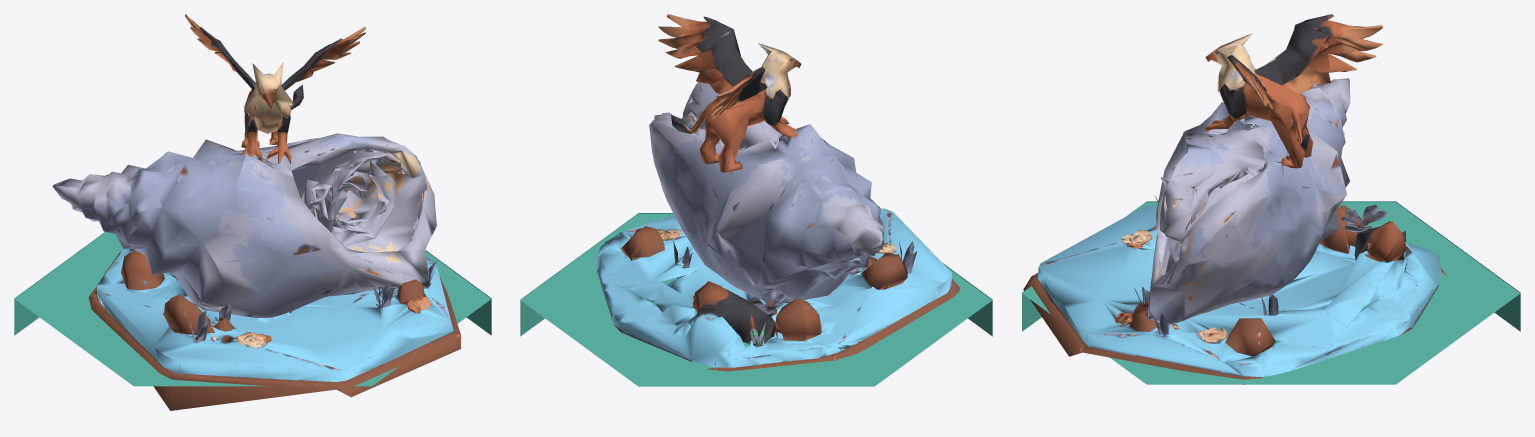
The model's file is griffon-shell.glb.
3 renders of one model, left to right at view 1: azimuth 30°, elevation 25°; view 2: azimuth 150°, elevation 25°; view 3: azimuth 270°, elevation 25°, orthographic. The views are drawn at different scales.
Parts seen in each view (by area): view 1: world, hexBase; view 2: world, hexBase; view 3: world, hexBase.
Part boxes in pixels (x1,y1,x2,y2): world: (52,14,461,410); hexBase: (14,232,491,386); world: (596,14,959,371); hexBase: (520,213,992,386); world: (1023,14,1446,384); hexBase: (1022,201,1520,384).
Size of the model in its own units: 1 by 0.7828 by 1.16.
Materials: 3 (1 with a texture image).
